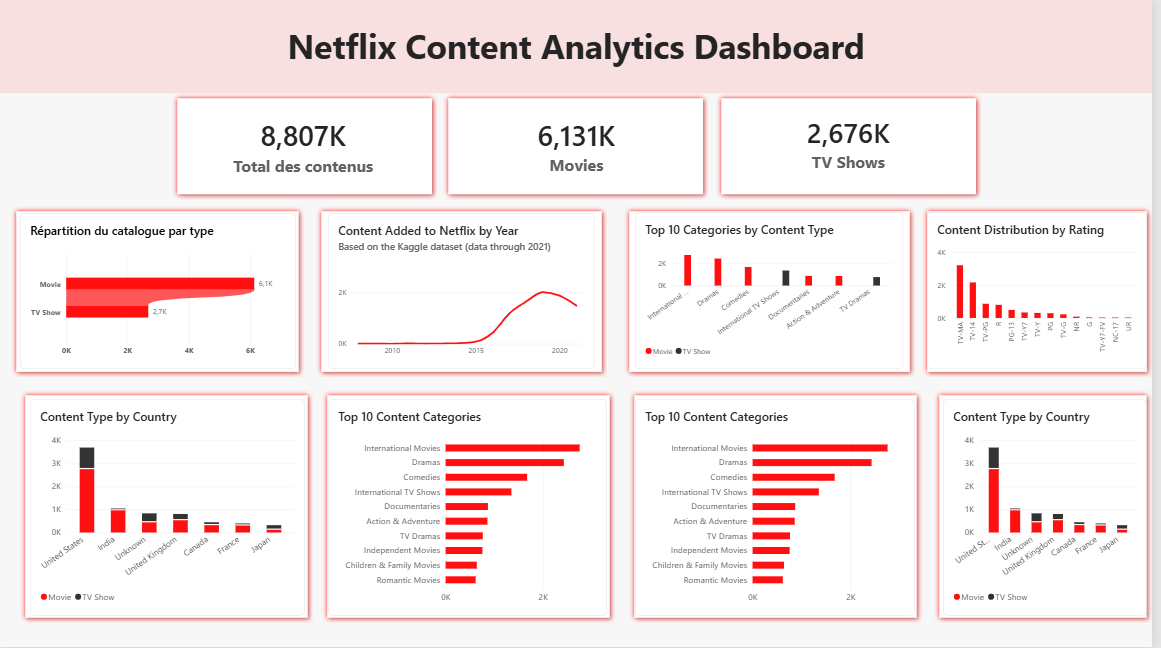

Layout of this report page (visuals, bound fields, positions):
{"tool":"powerbi","page":{"name":"Page 1","canvas":[1920,1080],"ordinal":0},"visuals":[{"type":"shape","box":[0,0,1920,157],"z":3000},{"type":"textbox","box":[0,39.6,1920,104.6],"z":4000},{"type":"shape","box":[287,157,442.3,177.6],"z":5000},{"type":"shape","box":[19,345.6,488.3,285.4],"z":6000},{"type":"cardVisual","fields":{"Data":["Count(netflix_bi content.show_id)"]},"box":[309.2,168.1,394.8,155.4],"z":7000},{"type":"shape","box":[738.8,157,442.3,177.6],"z":8000},{"type":"cardVisual","fields":{"Data":["CountNonNull(netflix_bi content.show_id)"]},"box":[780,179.2,361.5,133.2],"z":9000},{"type":"shape","box":[1193.9,157,442.3,177.6],"z":10000},{"type":"cardVisual","fields":{"Data":["CountNonNull(netflix_bi content.show_id)"]},"box":[1233.5,168.1,361.5,144.3],"z":11000},{"type":"barChart","title":"Répartition du catalogue par type","fields":{"Category":["netflix_bi content.type"],"Y":["CountNonNull(netflix_bi content.show_id)"]},"box":[33.3,356.7,459.8,260],"z":12000},{"type":"shape","box":[526.4,345.6,485.2,285.4],"z":13000},{"type":"lineChart","title":"Content Added to Netflix by Year","fields":{"Category":["netflix_bi content.date_added.Variation.Hiérarchie de dates.Année"],"Y":["CountNonNull(netflix_bi content.show_id)"]},"box":[547,356.7,443.9,260],"z":14000},{"type":"shape","box":[33.3,651.6,488.3,388.4],"z":15000},{"type":"shape","box":[535.9,651.6,488.3,388.4],"z":16000},{"type":"barChart","title":"Top 10 Content Categories","fields":{"Category":["netflix_bi categories.listed_in"],"Y":["CountNonNull(netflix_bi content_category.show_id)"]},"box":[547,665.9,464.5,361.5],"z":17000},{"type":"shape","box":[1048,651.6,488.3,388.4],"z":18000},{"type":"barChart","title":"Top 10 Content Categories","fields":{"Category":["netflix_bi categories.listed_in"],"Y":["CountNonNull(netflix_bi content_category.show_id)"]},"box":[1059.1,665.9,466.1,361.5],"z":19000},{"type":"shape","box":[1040.1,345.6,485.2,285.4],"z":20000},{"type":"clusteredColumnChart","title":"Top 10 Categories by Content Type","fields":{"Category":["netflix_bi categories.listed_in"],"Series":["netflix_bi content.type"],"Y":["CountNonNull(netflix_bi content_category.show_id)"]},"box":[1059.1,355.1,447.1,261.6],"z":21000},{"type":"columnChart","title":"Content Type by Country","fields":{"Category":["netflix_bi countries.country"],"Series":["netflix_bi content.type"],"Y":["CountNonNull(netflix_bi content_country.show_id)"]},"box":[50.7,665.9,458.2,361.5],"z":22000},{"type":"shape","box":[1556.9,651.6,363.1,388.4],"z":22001},{"type":"columnChart","title":"Content Type by Country","fields":{"Category":["netflix_bi countries.country"],"Series":["netflix_bi content.type"],"Y":["CountNonNull(netflix_bi content_country.show_id)"]},"box":[1571.2,665.9,339.3,361.5],"z":22002},{"type":"shape","box":[1536.3,345.6,383.7,285.4],"z":22004},{"type":"clusteredColumnChart","title":"Content Distribution by Rating","fields":{"Category":["netflix_bi content.rating"],"Y":["CountNonNull(netflix_bi content.show_id)"]},"box":[1544.2,355.1,366.2,261.6],"z":22005}]}

Visuals, with their boxes in screenshot pixels (x1, y1, x2, y2), scaled from the page's 1920x1080 canvas onto the 1161x648 screenshot:
shape: pyautogui.locateOnScreen(0, 0, 1160, 94)
textbox: pyautogui.locateOnScreen(0, 24, 1160, 87)
shape: pyautogui.locateOnScreen(174, 94, 441, 201)
shape: pyautogui.locateOnScreen(11, 207, 307, 379)
cardVisual - Count(netflix_bi content.show_id): pyautogui.locateOnScreen(187, 101, 426, 194)
shape: pyautogui.locateOnScreen(447, 94, 714, 201)
cardVisual - CountNonNull(netflix_bi content.show_id): pyautogui.locateOnScreen(472, 108, 690, 187)
shape: pyautogui.locateOnScreen(722, 94, 989, 201)
cardVisual - CountNonNull(netflix_bi content.show_id): pyautogui.locateOnScreen(746, 101, 964, 187)
"Répartition du catalogue par type" barChart: pyautogui.locateOnScreen(20, 214, 298, 370)
shape: pyautogui.locateOnScreen(318, 207, 612, 379)
"Content Added to Netflix by Year" lineChart: pyautogui.locateOnScreen(331, 214, 599, 370)
shape: pyautogui.locateOnScreen(20, 391, 315, 624)
shape: pyautogui.locateOnScreen(324, 391, 619, 624)
"Top 10 Content Categories" barChart: pyautogui.locateOnScreen(331, 400, 612, 616)
shape: pyautogui.locateOnScreen(634, 391, 929, 624)
"Top 10 Content Categories" barChart: pyautogui.locateOnScreen(640, 400, 922, 616)
shape: pyautogui.locateOnScreen(629, 207, 922, 379)
"Top 10 Categories by Content Type" clusteredColumnChart: pyautogui.locateOnScreen(640, 213, 911, 370)
"Content Type by Country" columnChart: pyautogui.locateOnScreen(31, 400, 308, 616)
shape: pyautogui.locateOnScreen(941, 391, 1160, 624)
"Content Type by Country" columnChart: pyautogui.locateOnScreen(950, 400, 1155, 616)
shape: pyautogui.locateOnScreen(929, 207, 1160, 379)
"Content Distribution by Rating" clusteredColumnChart: pyautogui.locateOnScreen(934, 213, 1155, 370)
